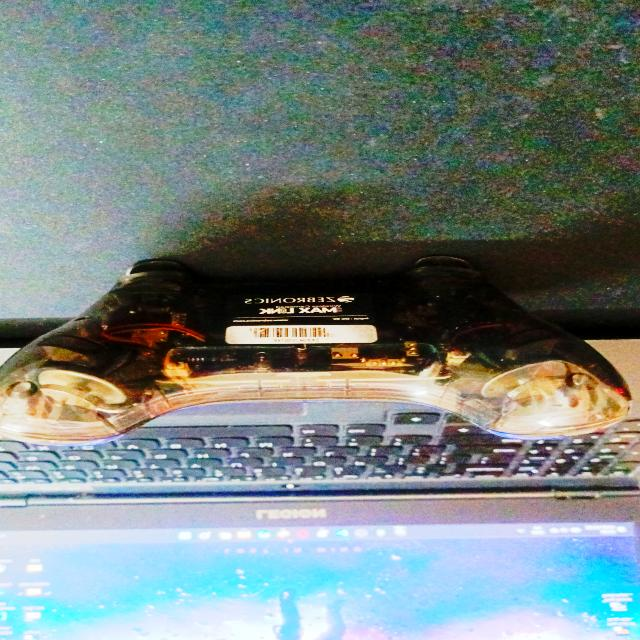gamepad: (0, 255, 632, 448)
